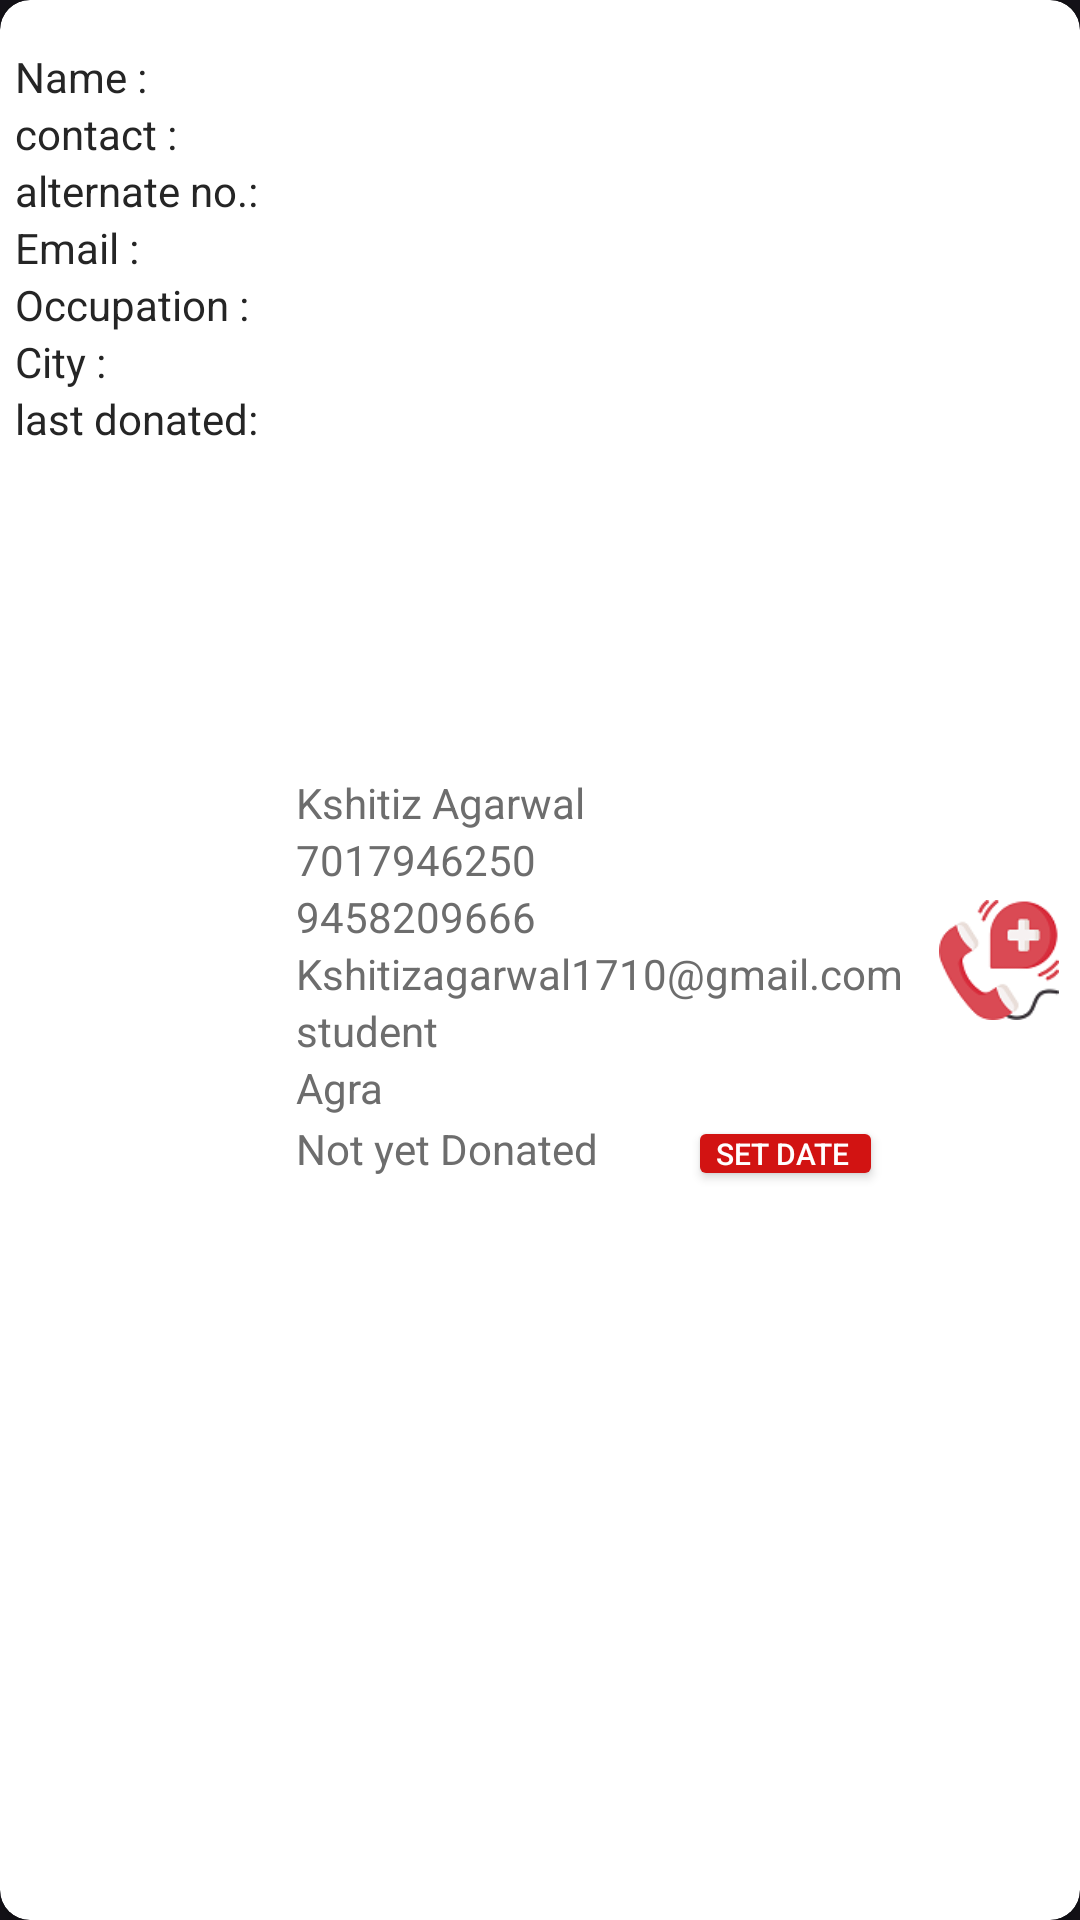

Where icons sit on this 1080px x 1920px app screen, as (left=x1, top=y1, right=x2, bottom=y2):
call: (left=939, top=900, right=1059, bottom=1020)
